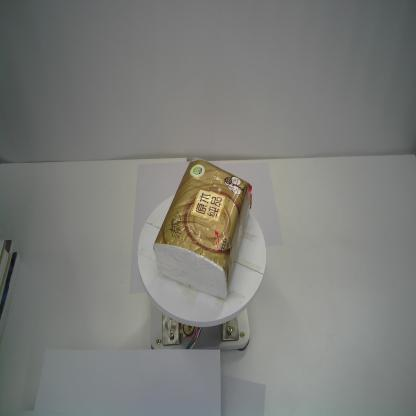Tissue: (154, 156, 252, 300)
